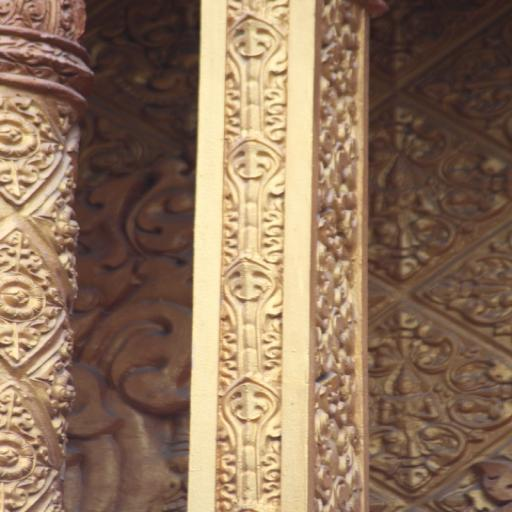hoa: (365, 301, 512, 498), (371, 98, 511, 280), (423, 16, 512, 149), (430, 214, 512, 356), (0, 225, 72, 370), (370, 4, 497, 76), (0, 90, 66, 205), (0, 385, 58, 512)
la: (220, 374, 278, 512), (229, 133, 283, 261), (228, 11, 282, 137), (224, 257, 281, 375)
